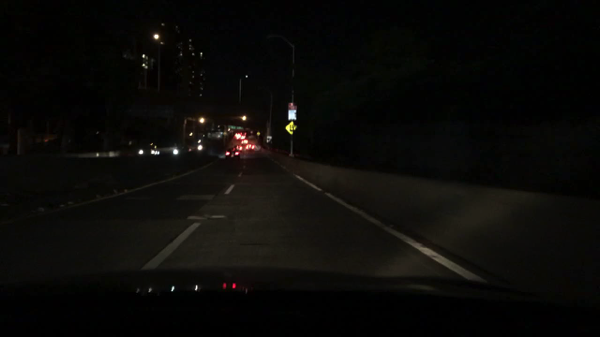car: (227, 147, 241, 161), (254, 146, 261, 153)
traffic sign: (285, 122, 297, 136), (288, 103, 297, 116), (229, 126, 243, 131)
